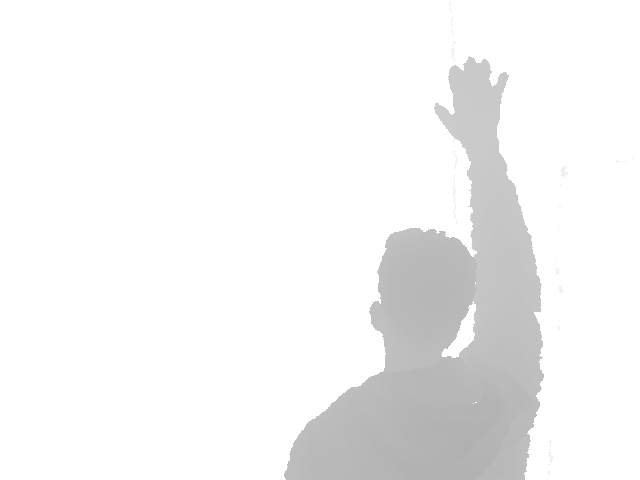hand: (433, 55, 509, 148)
head: (369, 227, 477, 375)
person: (282, 55, 544, 480)
